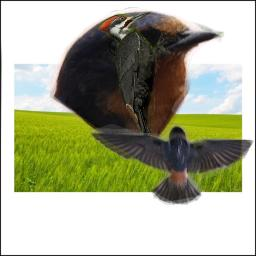Swallow: (50, 7, 226, 159), (85, 123, 256, 205)
Woodpecker: (97, 11, 175, 147)
